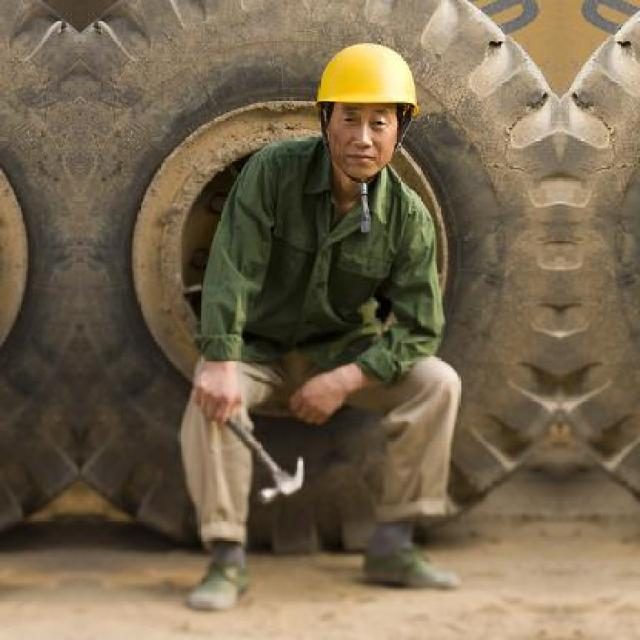helmet: (290, 38, 433, 195)
